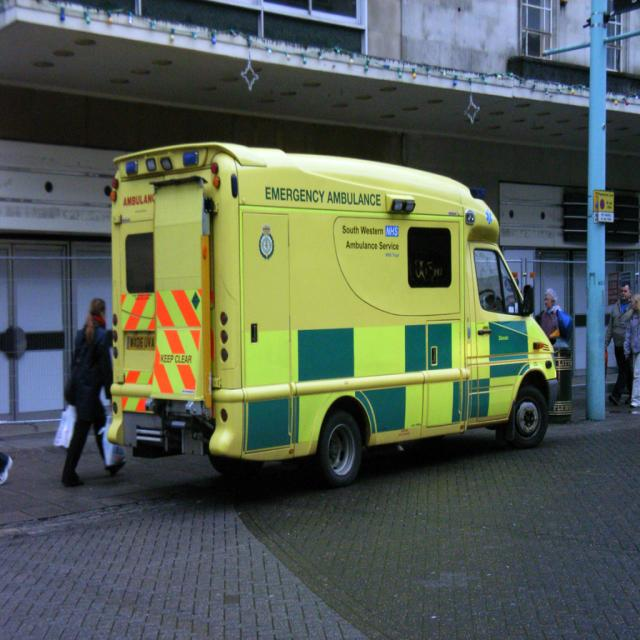Ambulance: (106, 137, 558, 489)
